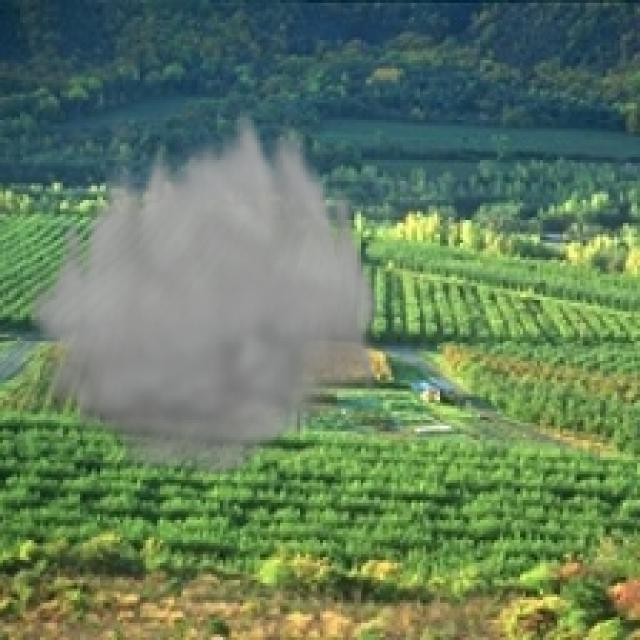smoke: (23, 97, 383, 486)
